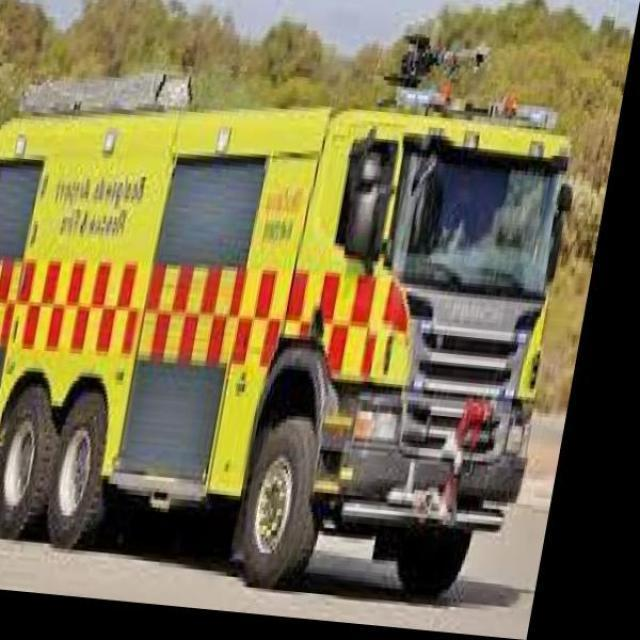emergency: (0, 31, 574, 597)
